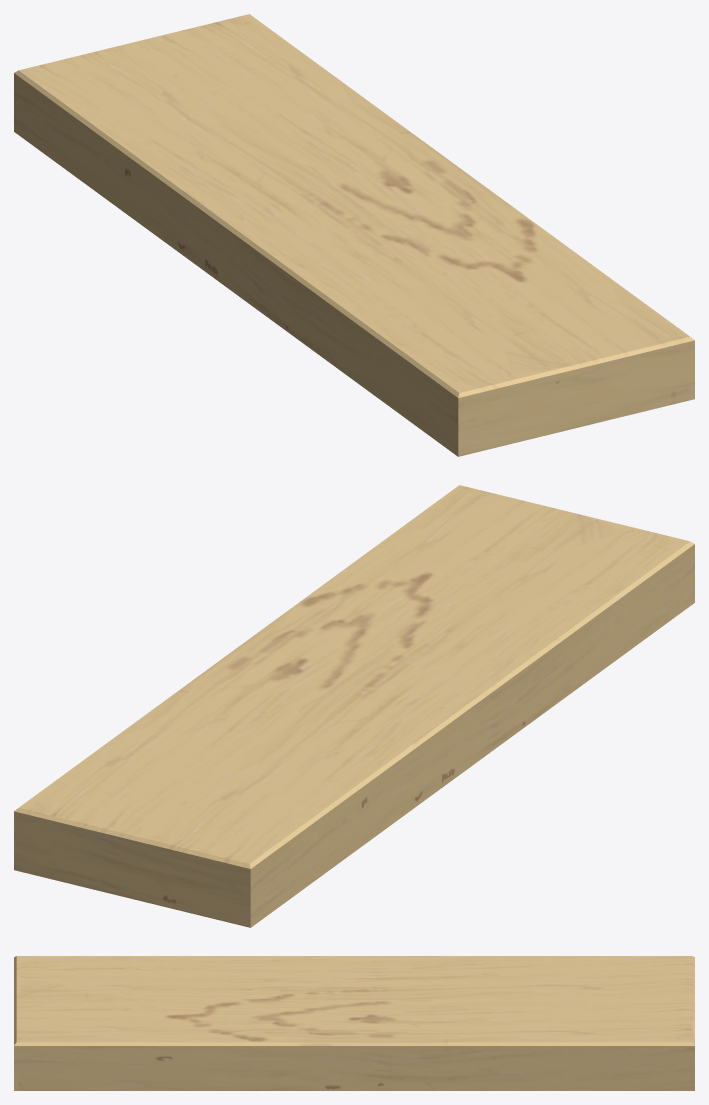
The model's file is Manaita_Long.fbx.
3 renders of one model, top to bottom at view 1: azimuth 30°, elevation 25°; view 2: azimuth 150°, elevation 25°; view 3: azimuth 270°, elevation 25°, orthographic. The views are drawn at different scales.
Parts seen in each view (by area): view 1: Manaita_Long; view 2: Manaita_Long; view 3: Manaita_Long.
Part boxes in pixels (left/top/right/bottom): Manaita_Long: left=14, top=14, right=694, bottom=456; Manaita_Long: left=14, top=485, right=694, bottom=927; Manaita_Long: left=14, top=956, right=694, bottom=1090.
Bounding box in the file's own units: 600 × 150 × 1950.
1 material, 1 textured.
